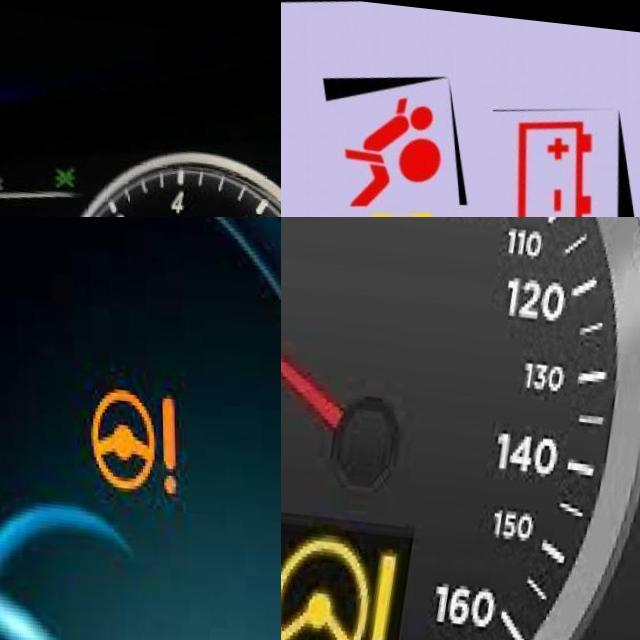Electronic Power Steering: (281, 526, 397, 640), (87, 374, 183, 488)
